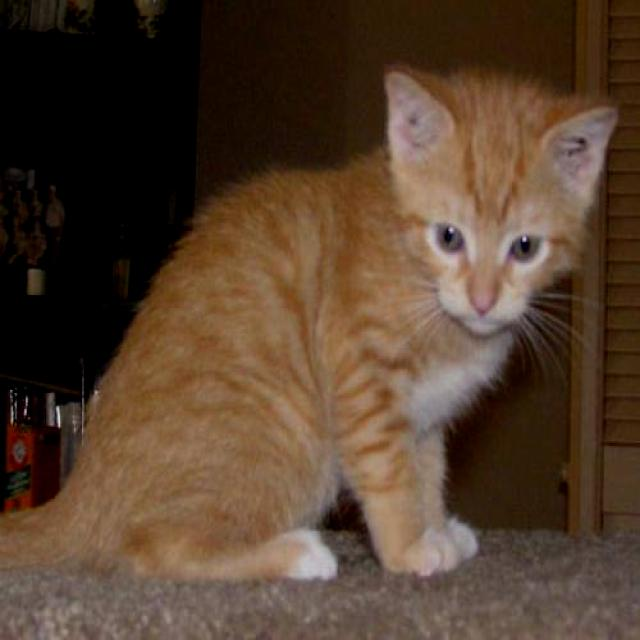Kucing: (25, 46, 630, 593)
